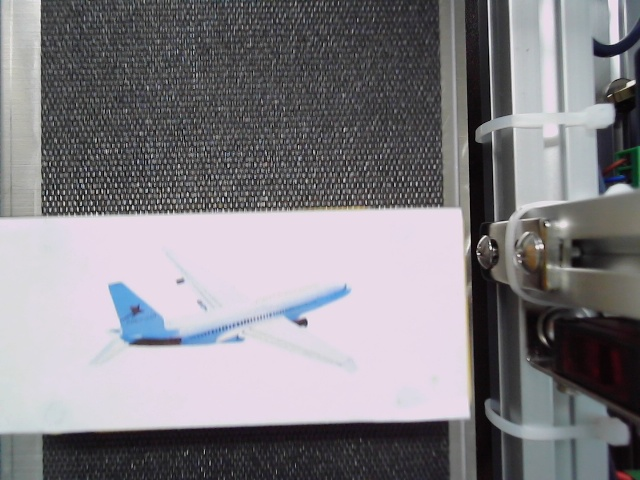airplane: (91, 243, 358, 377)
